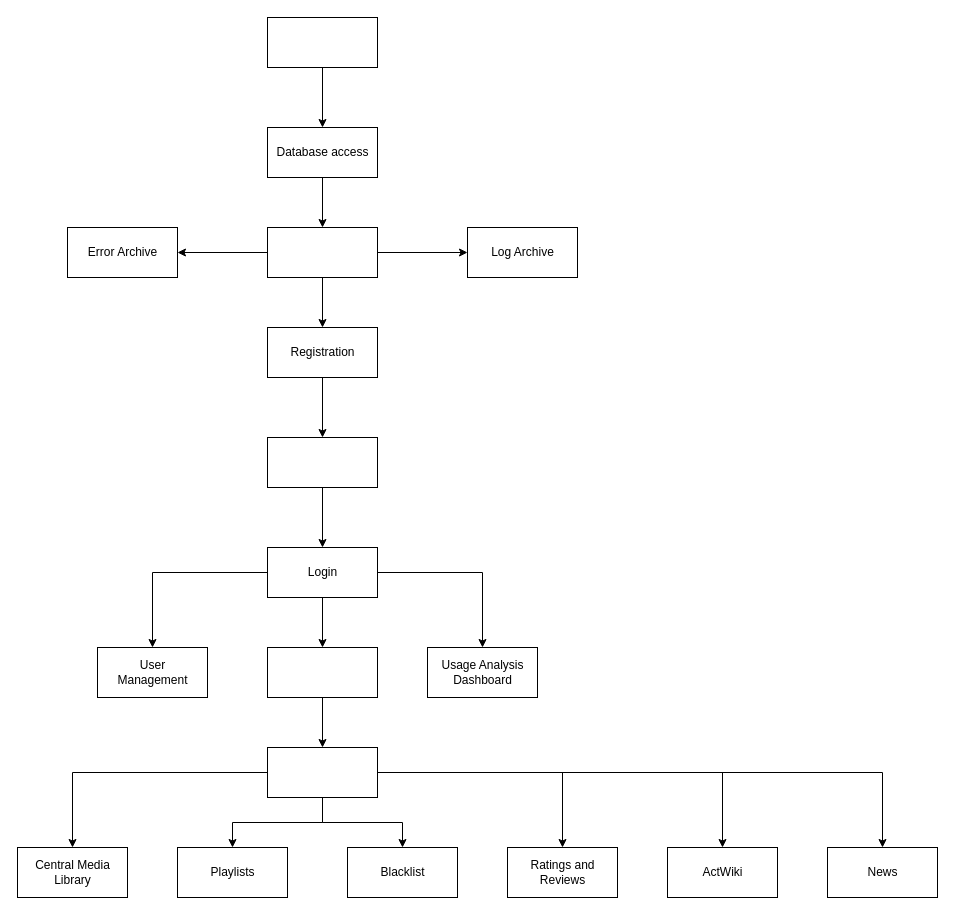
The diagram is 955 pixels wide and 915 high, and some of its shapes have lost their labels. The shapes that lost their labels are listed below. From the top down, each one's centre as x and y in pixels, then its label:
point 322,42: Database
point 322,252: Logging
point 322,462: Authentication
point 322,672: User Access Control
point 322,772: Authorization
